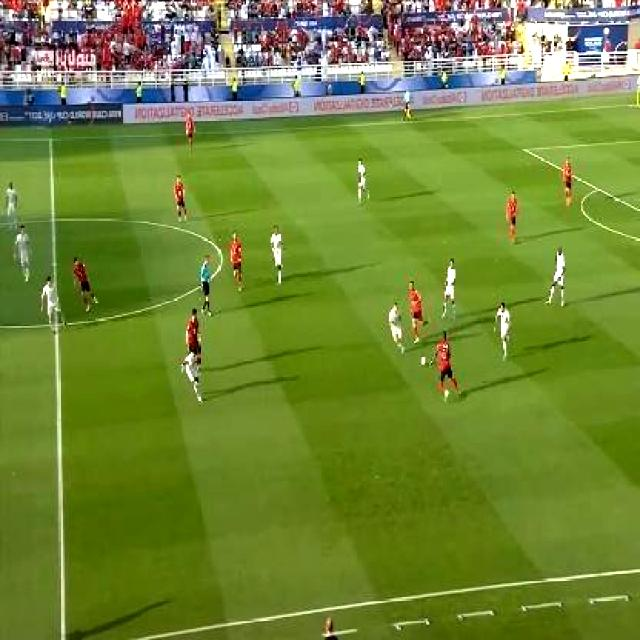bigarea_top_inner: (520, 140, 534, 157)
corner: (632, 96, 640, 110)
halfcircle_top: (44, 209, 61, 228)
midline_top_intersection: (44, 128, 59, 146)
top_arc_area_intersection: (592, 178, 606, 196)
